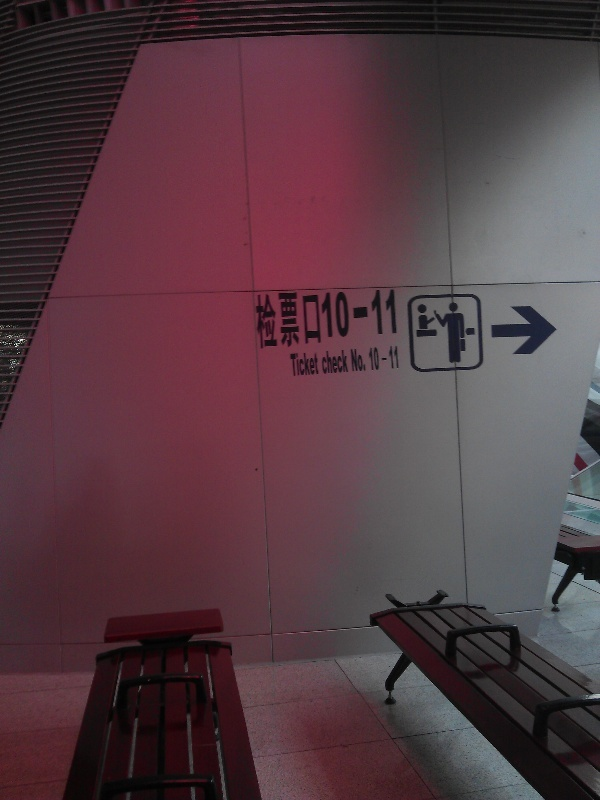text: (257, 286, 272, 350), (273, 286, 288, 350), (289, 286, 304, 350), (305, 286, 320, 350), (321, 286, 336, 350), (337, 286, 352, 350), (353, 286, 368, 350), (369, 286, 384, 350), (385, 286, 399, 350), (305, 351, 321, 378), (289, 351, 304, 378), (385, 346, 401, 371), (321, 350, 336, 376), (369, 346, 384, 371), (337, 350, 349, 376), (353, 348, 366, 372), (254, 286, 256, 350), (351, 348, 352, 372)
